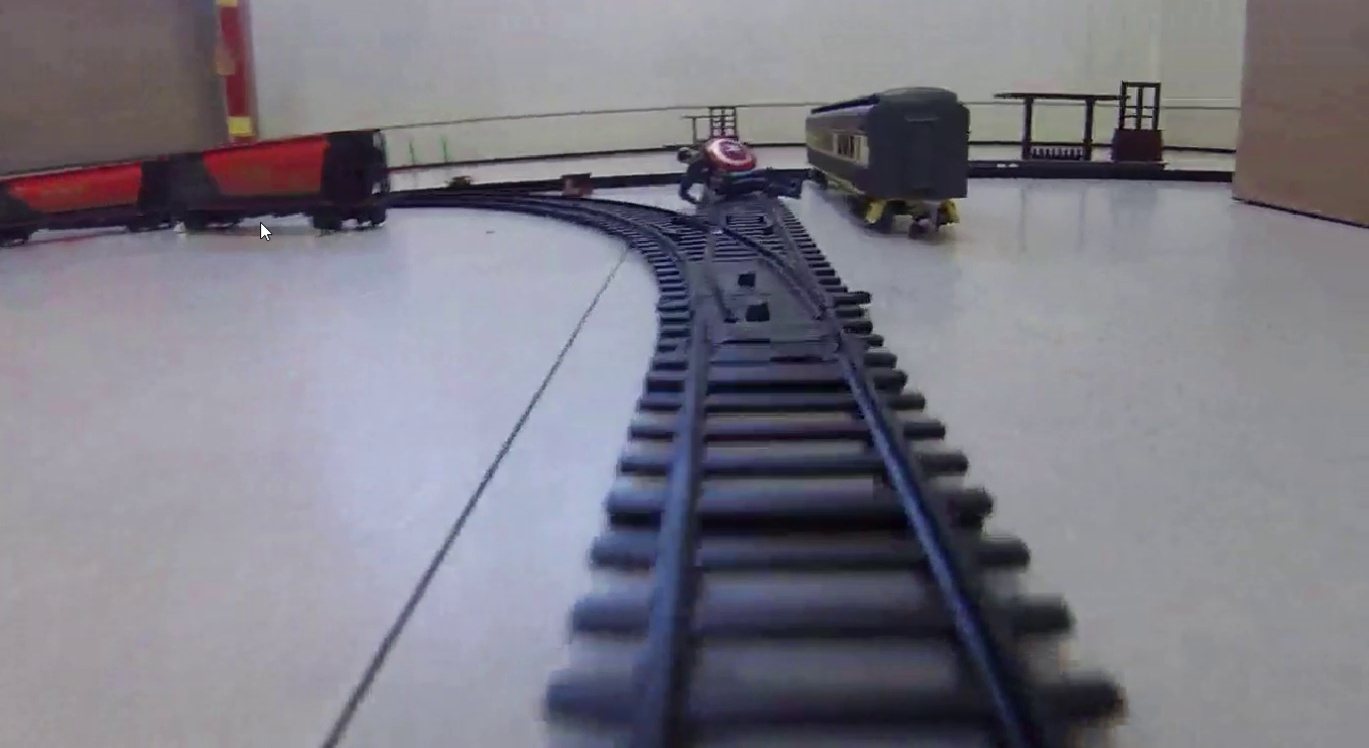people: (678, 138, 807, 203)
